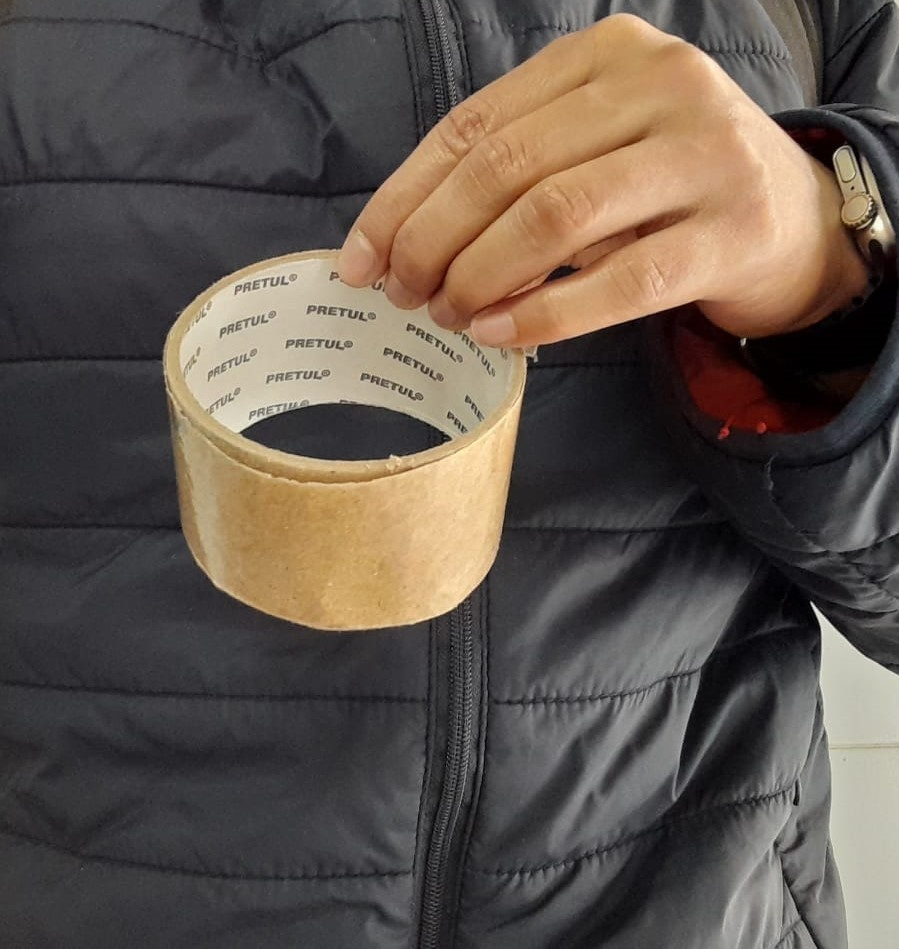Carton: (160, 246, 528, 633)
